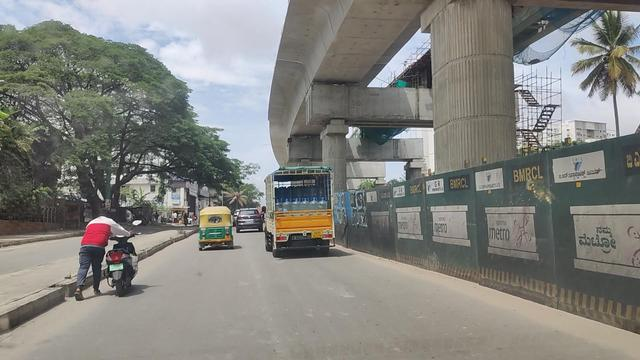HMV: (265, 167, 335, 253)
LMV: (201, 205, 235, 252)
